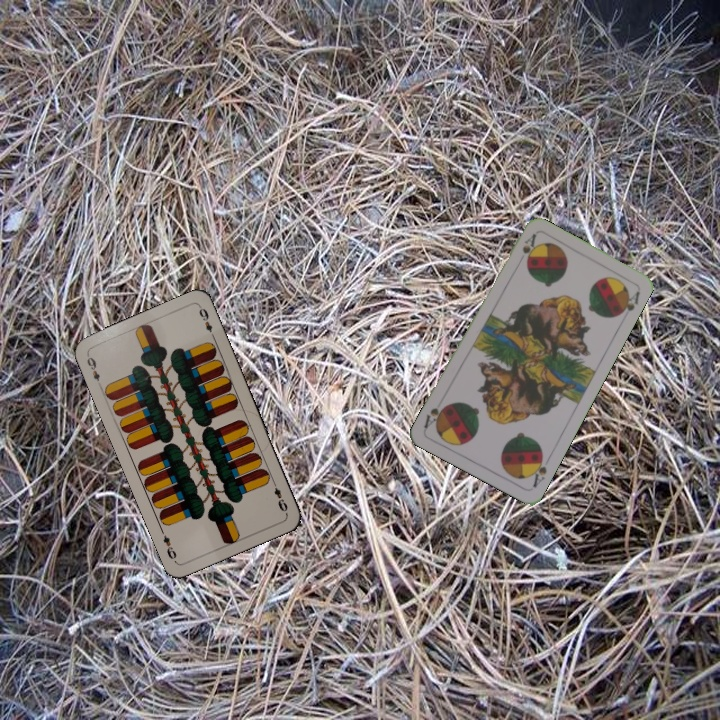E9: (83, 351, 104, 390), (268, 477, 290, 514)
SA: (526, 449, 549, 490), (518, 230, 539, 256)
